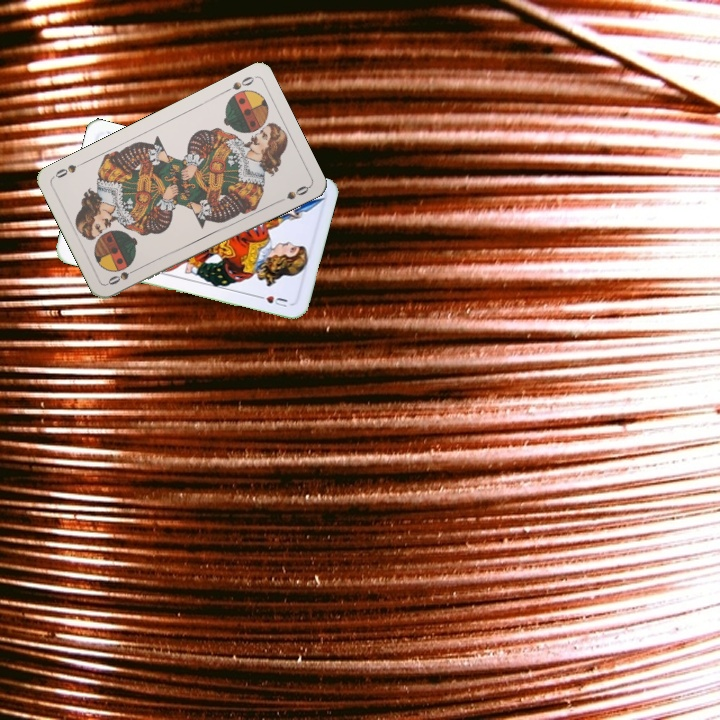SO: (104, 264, 142, 288), (219, 72, 257, 96)
